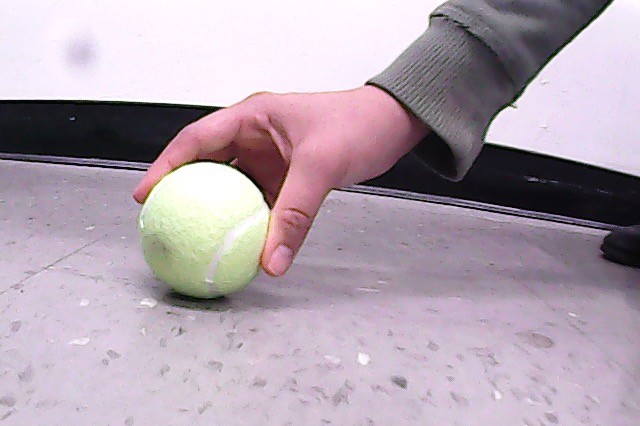ball: (139, 164, 272, 299)
